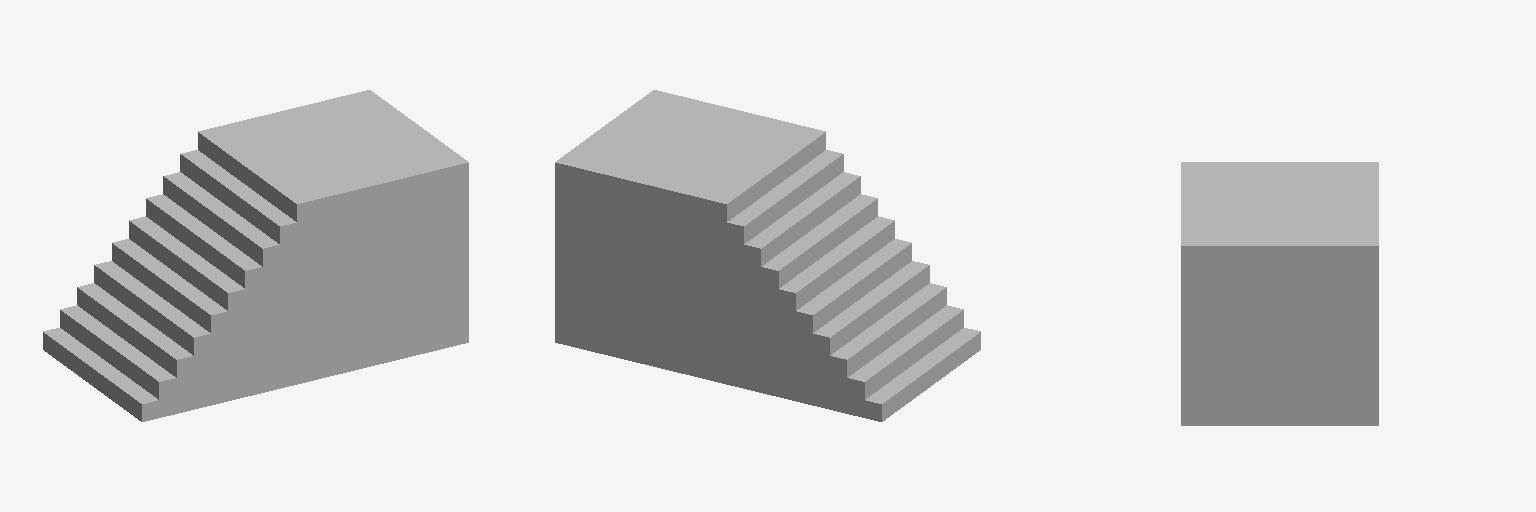
File: stairs.obj
The picture shows the model from 3 angles: view 1: azimuth 30°, elevation 25°; view 2: azimuth 150°, elevation 25°; view 3: azimuth 270°, elevation 25°; orthographic projection.
Parts seen in each view (by area): view 1: Cube.010_Cube.011; view 2: Cube.010_Cube.011; view 3: Cube.010_Cube.011.
Boxes of the visible parts, x1=… form: Cube.010_Cube.011: x1=43, y1=90, x2=468, y2=421; Cube.010_Cube.011: x1=555, y1=90, x2=980, y2=421; Cube.010_Cube.011: x1=1181, y1=162, x2=1378, y2=425.
Size of the model in its own units: 3.8 by 2 by 2.